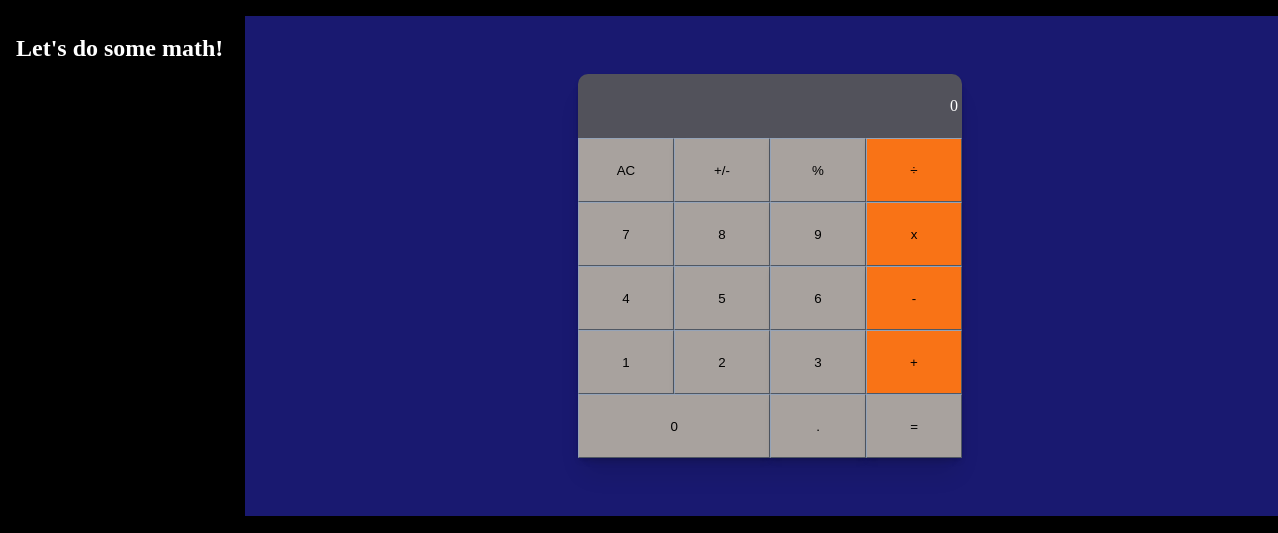
Test: Perform calculation operations › Click equals button to calculate and render result of operation on screen
Click the button "2" at (722, 362), box [674, 330, 770, 394]
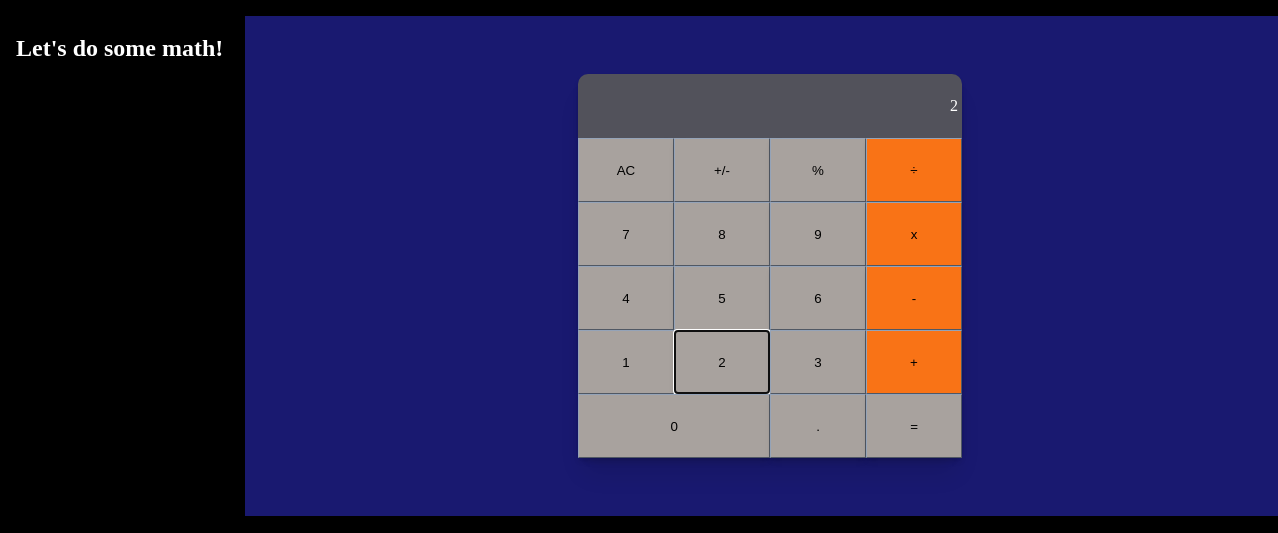
Click the button "4" at (626, 298), box [578, 266, 674, 330]
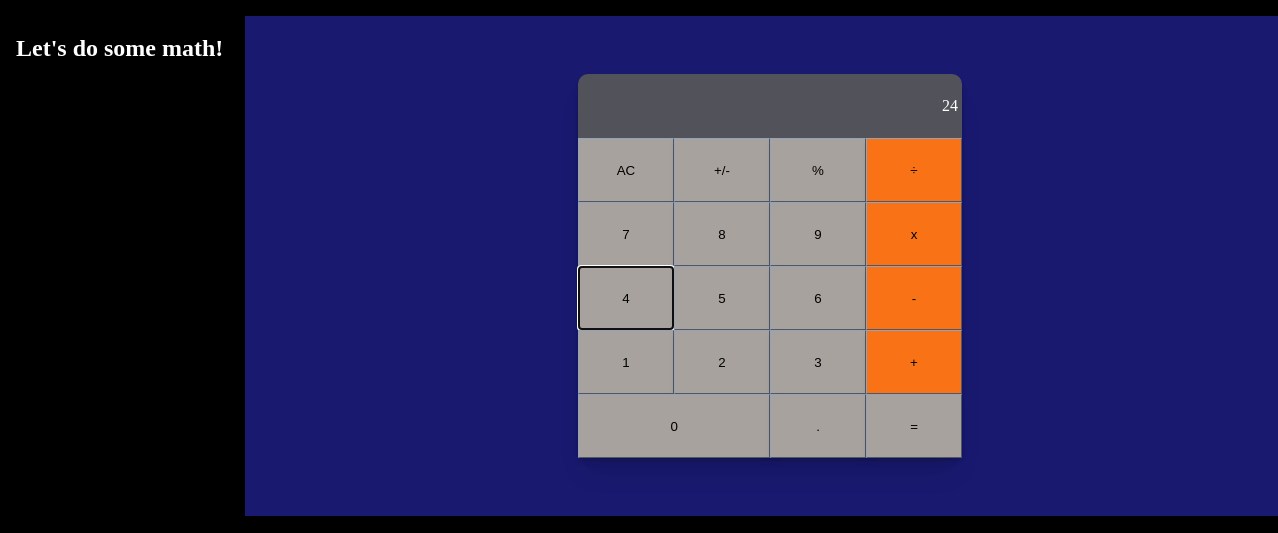
Click the button "+" at (914, 362), box [866, 330, 962, 394]
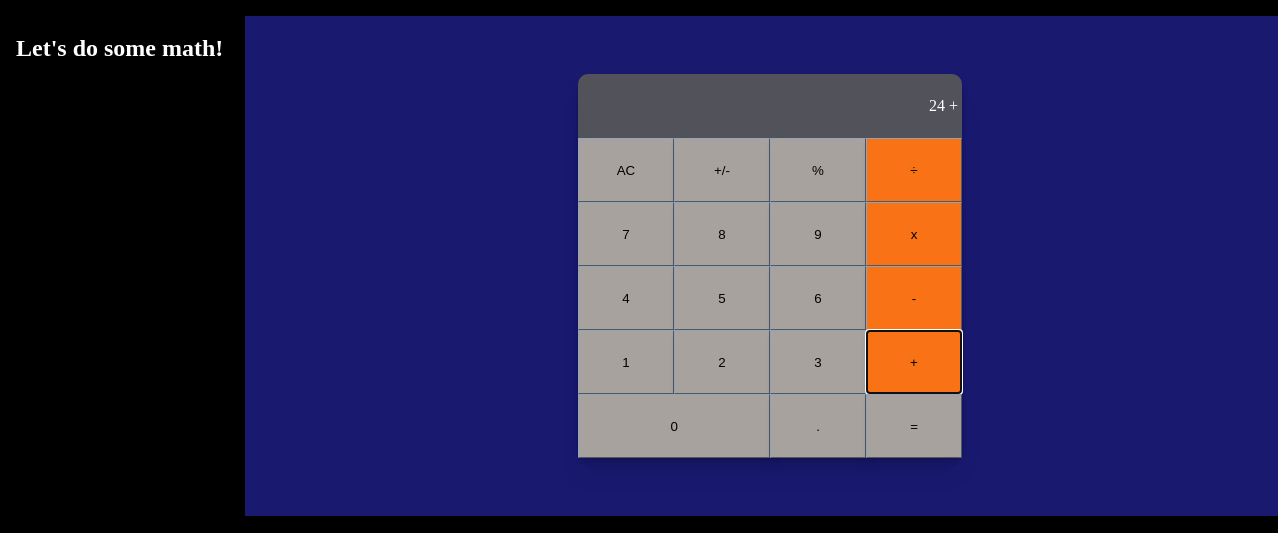
Click the button "4" at (626, 298), box [578, 266, 674, 330]
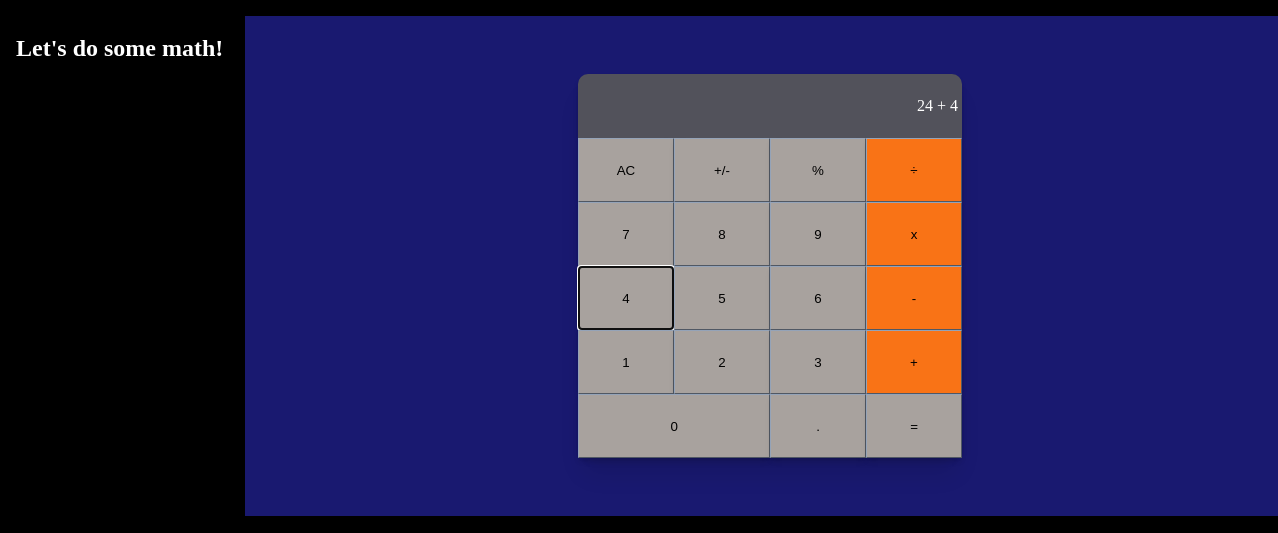
Click the button "=" at (914, 426), box [866, 394, 962, 458]
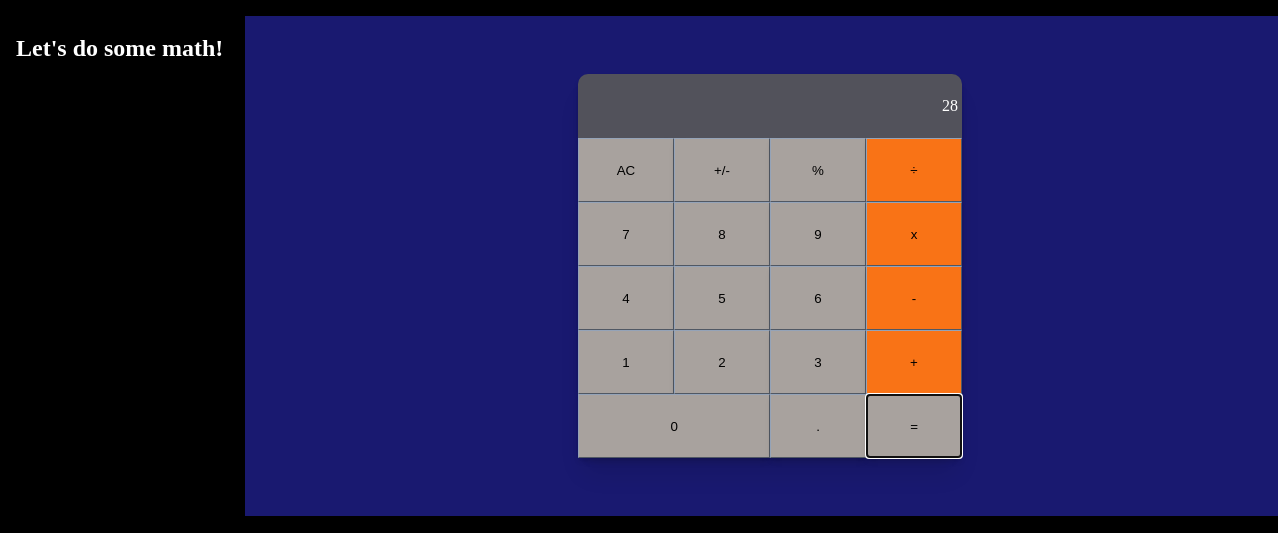
Result: the button with test id "cal-screen-out" reads "28" at [942, 97, 958, 114]
